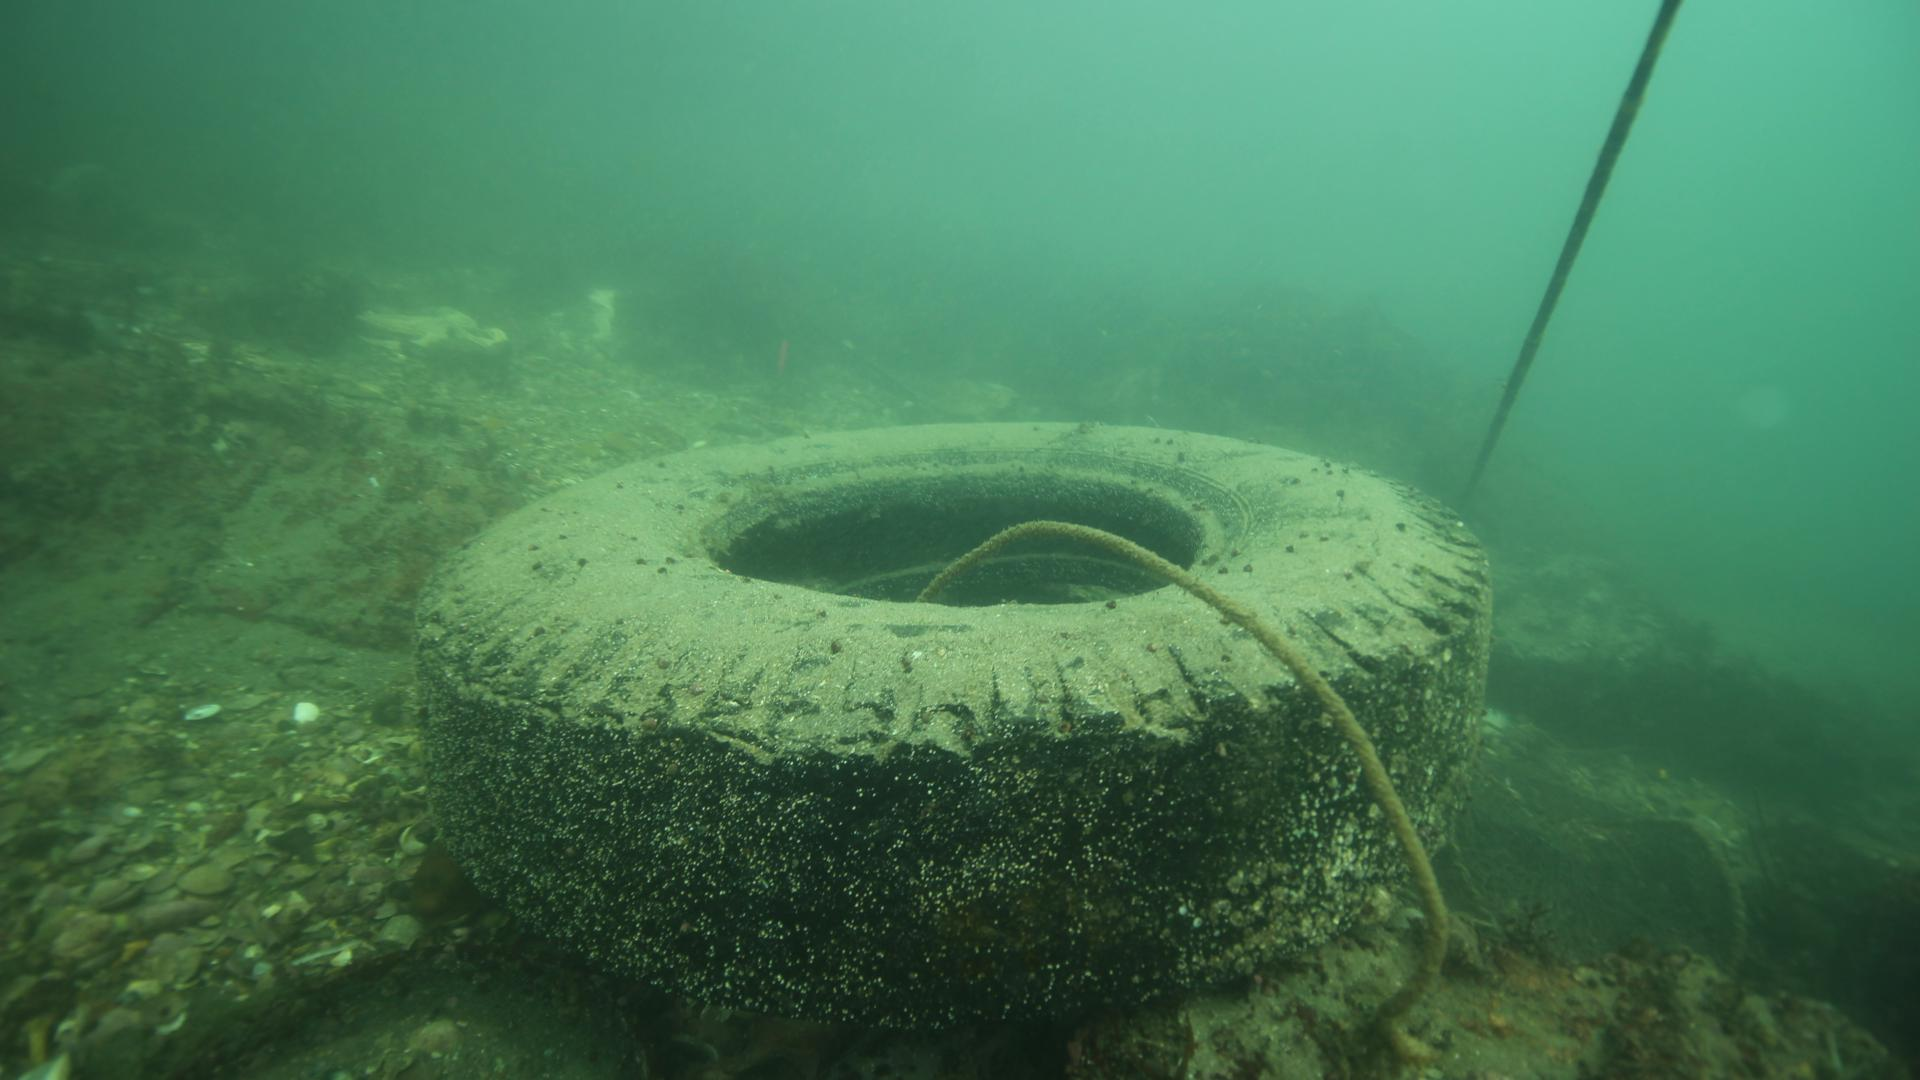rope: (899, 513, 1453, 1040)
tire: (410, 415, 1495, 1036)
